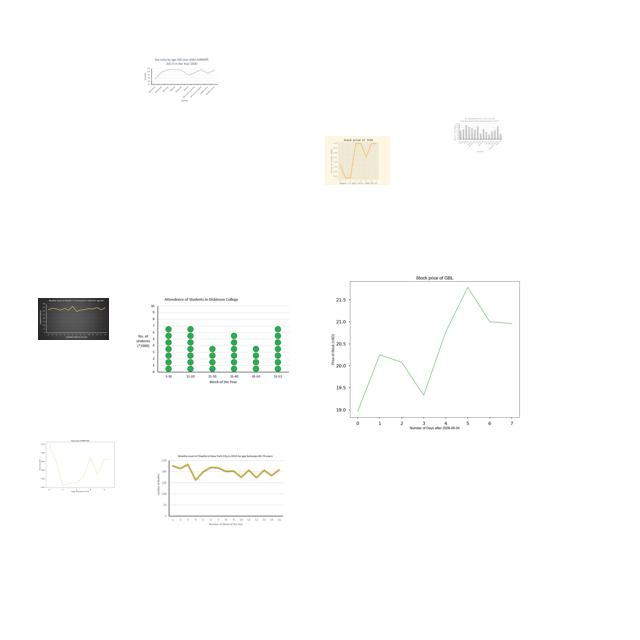Graph: (303, 260, 560, 437), (133, 295, 292, 387), (154, 451, 286, 529), (35, 434, 123, 495), (142, 56, 219, 103), (325, 136, 390, 185), (38, 298, 109, 340), (453, 117, 503, 153)
